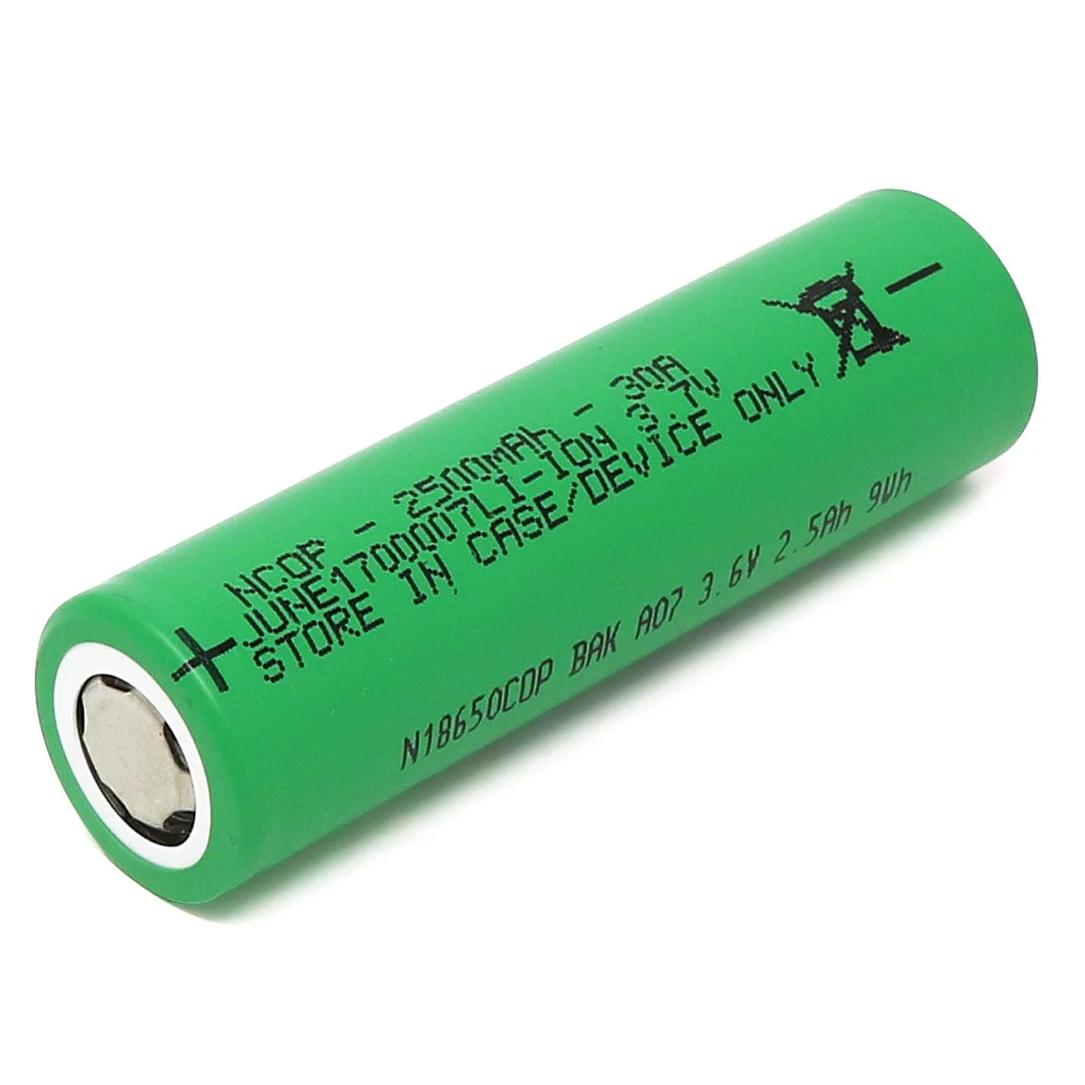toxic_waste: (896, 130, 1085, 1085)
